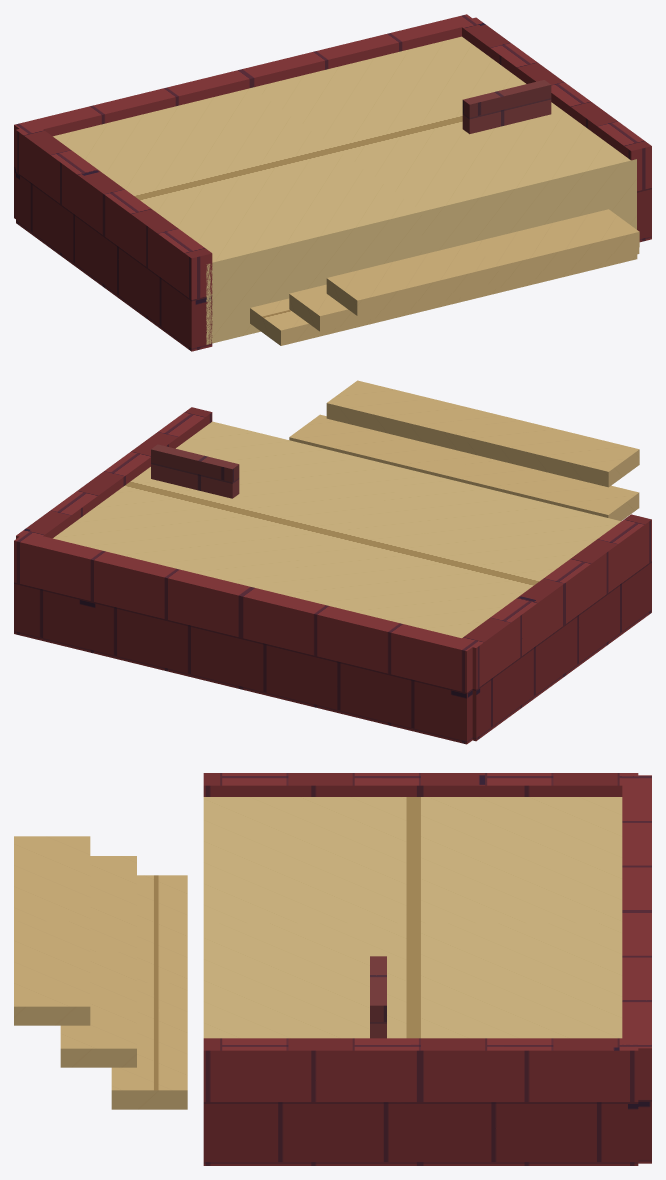
File: env_terrace_market_a.glb
3 views of the same model, one above another, from view 1: azimuth 30°, elevation 25°; view 2: azimuth 150°, elevation 25°; view 3: azimuth 270°, elevation 25° (orthographic). The views are drawn at different scales.
Visible parts, largest first — view 1: lod0__terrace_clay, lod0__terrace_shell; view 2: lod0__terrace_clay, lod0__terrace_shell; view 3: lod0__terrace_clay, lod0__terrace_shell.
Part boxes in pixels (x1,y1,x2,y2): lod0__terrace_clay: (53,36,639,345); lod0__terrace_shell: (14,14,651,351); lod0__terrace_clay: (53,380,639,638); lod0__terrace_shell: (14,407,651,744); lod0__terrace_clay: (14,797,622,1109); lod0__terrace_shell: (203,773,651,1165).
Size of the model in its own units: 3.1 by 0.73 by 3.01.
2 materials, 2 textured.
